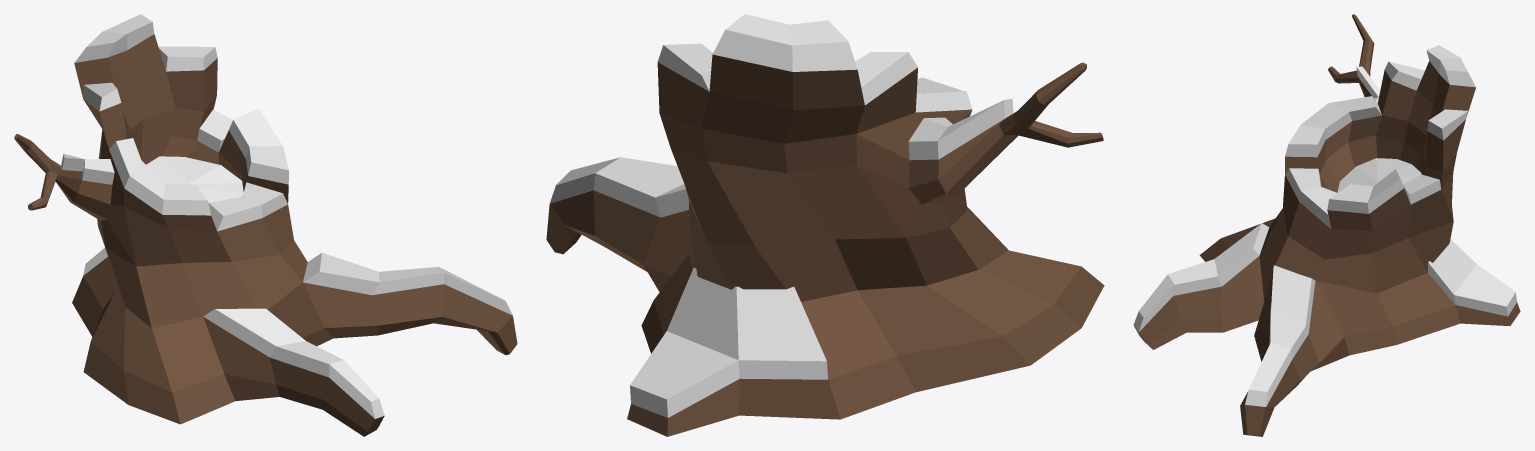
File: Tree_Stump_Snow.fbx
3 renders of one model, left to right at view 1: azimuth 30°, elevation 25°; view 2: azimuth 150°, elevation 25°; view 3: azimuth 270°, elevation 25°, orthographic. The views are drawn at different scales.
Parts seen in each view (by area): view 1: Tree Stump Snow; view 2: Tree Stump Snow; view 3: Tree Stump Snow.
Boxes of the visible parts, bbox=[...] form: Tree Stump Snow: bbox=[14, 14, 517, 436]; Tree Stump Snow: bbox=[546, 14, 1104, 436]; Tree Stump Snow: bbox=[1133, 14, 1520, 436].
Bounding box in the file's own units: 213 × 142 × 188.
